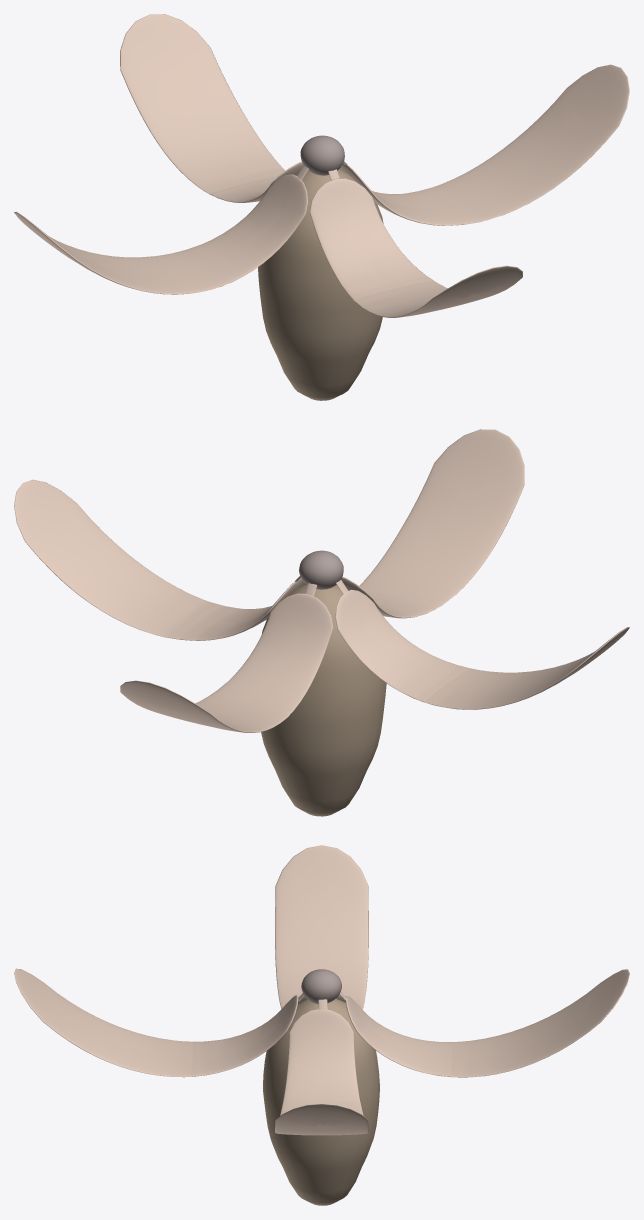
3 views of the same model, one above another, from view 1: azimuth 30°, elevation 25°; view 2: azimuth 150°, elevation 25°; view 3: azimuth 270°, elevation 25° (orthographic). The views are drawn at different scales.
Visible parts, largest first — view 1: pSphere3 (×4), pSphere1, pSphere2; view 2: pSphere3 (×4), pSphere1, pSphere2; view 3: pSphere3 (×4), pSphere1, pSphere2.
Boxes of the visible parts, bbox=[...] form: pSphere3 (×4): bbox=[14, 14, 629, 317]; pSphere1: bbox=[258, 169, 383, 400]; pSphere2: bbox=[300, 135, 344, 175]; pSphere3 (×4): bbox=[14, 429, 629, 732]; pSphere1: bbox=[261, 584, 386, 816]; pSphere2: bbox=[299, 550, 343, 589]; pSphere3 (×4): bbox=[14, 845, 629, 1135]; pSphere1: bbox=[263, 998, 379, 1205]; pSphere2: bbox=[301, 969, 341, 1003].
Bounding box in the file's own units: 13.64 × 5.66 × 13.64.
